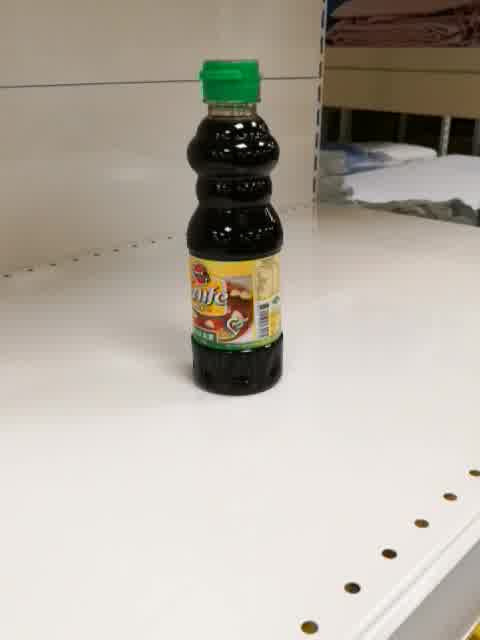cookingoil: (184, 58, 284, 398)
